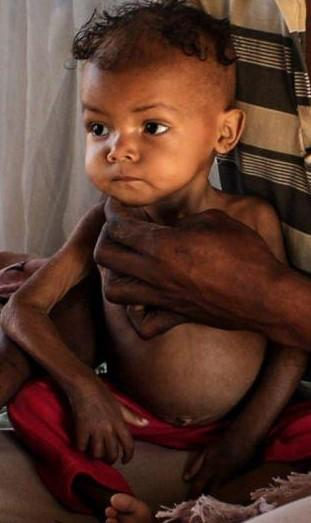Stunting: (36, 23, 229, 233)
